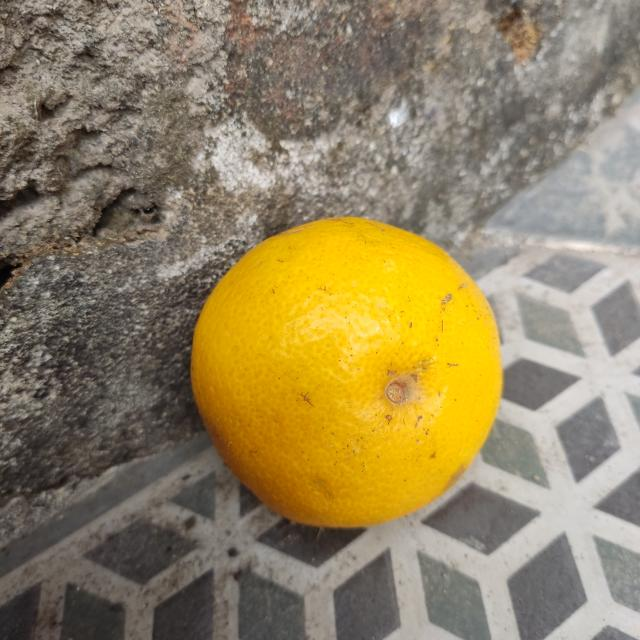orange: (186, 214, 504, 530)
